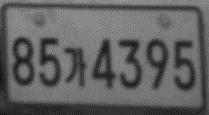3: (118, 39, 141, 89)
4: (91, 37, 116, 89)
5: (173, 39, 196, 92), (38, 37, 60, 86)
8: (11, 36, 34, 85)
9: (145, 37, 168, 89)
가: (63, 46, 87, 87)
